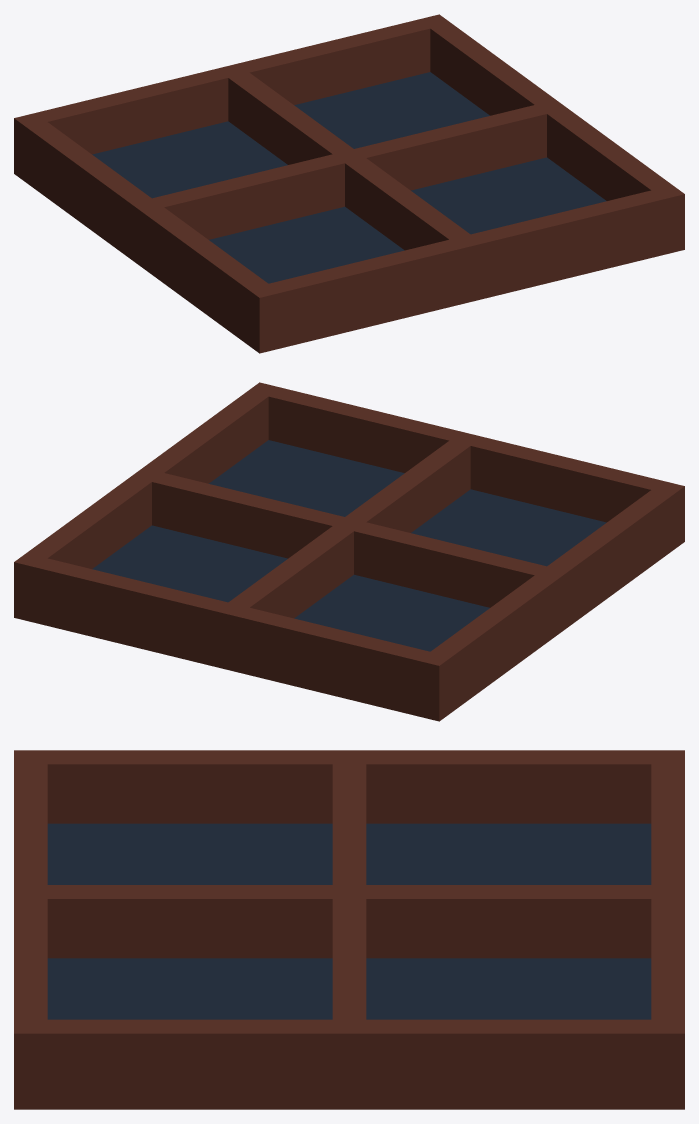
File: SM_ENV_ClaraboiaGaleria.fbx
3 renders of one model, top to bottom at view 1: azimuth 30°, elevation 25°; view 2: azimuth 150°, elevation 25°; view 3: azimuth 270°, elevation 25°, orthographic. The views are drawn at different scales.
Visible parts, largest first — view 1: SM_ENV_ClaraboiaGaleria; view 2: SM_ENV_ClaraboiaGaleria; view 3: SM_ENV_ClaraboiaGaleria.
Part boxes in pixels (x1,y1,x2,y2): SM_ENV_ClaraboiaGaleria: [14, 14, 684, 353]; SM_ENV_ClaraboiaGaleria: [14, 382, 684, 721]; SM_ENV_ClaraboiaGaleria: [14, 750, 684, 1109].
Size of the model in its own units: 2 by 0.25 by 2.
